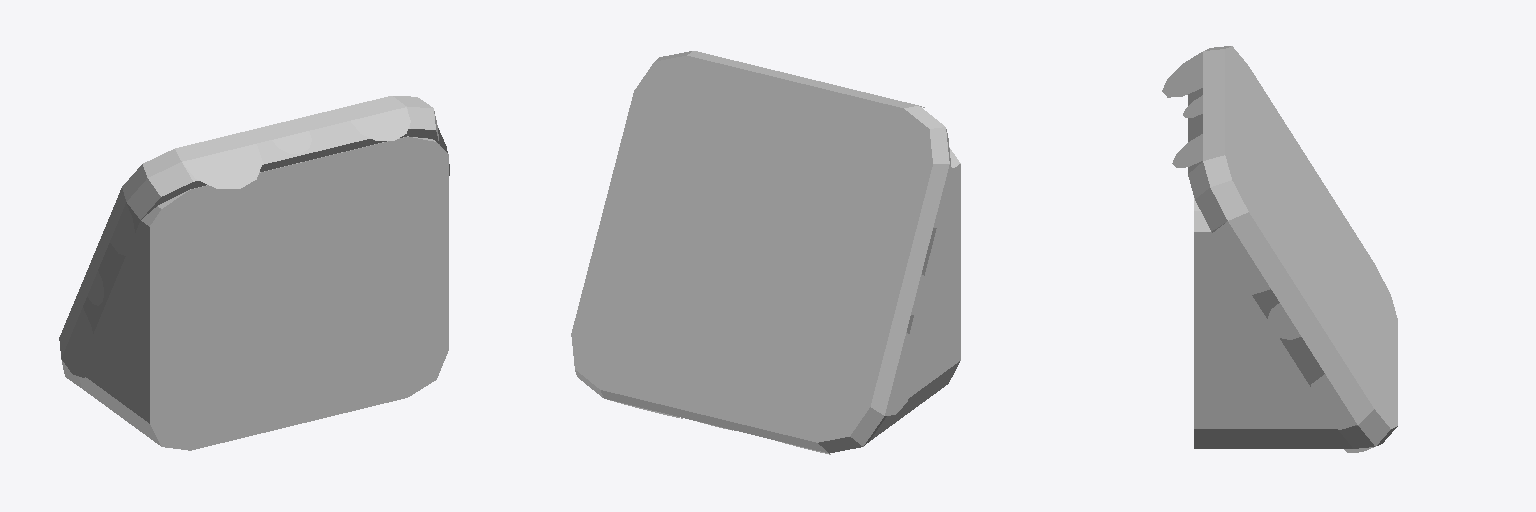
Rendered from block-snow-overhang-large-slope-steep.obj.
The picture shows the model from 3 angles: view 1: azimuth 30°, elevation 25°; view 2: azimuth 150°, elevation 25°; view 3: azimuth 270°, elevation 25°; orthographic projection.
Parts seen in each view (by area): view 1: block-snow-overhang-large-slope-steep; view 2: block-snow-overhang-large-slope-steep; view 3: block-snow-overhang-large-slope-steep.
Boxes of the visible parts, x1=… form: block-snow-overhang-large-slope-steep: x1=59, y1=96, x2=449, y2=450; block-snow-overhang-large-slope-steep: x1=571, y1=51, x2=960, y2=454; block-snow-overhang-large-slope-steep: x1=1162, y1=46, x2=1397, y2=452.
Size of the model in its own units: 2.08 by 1.97 by 1.37.